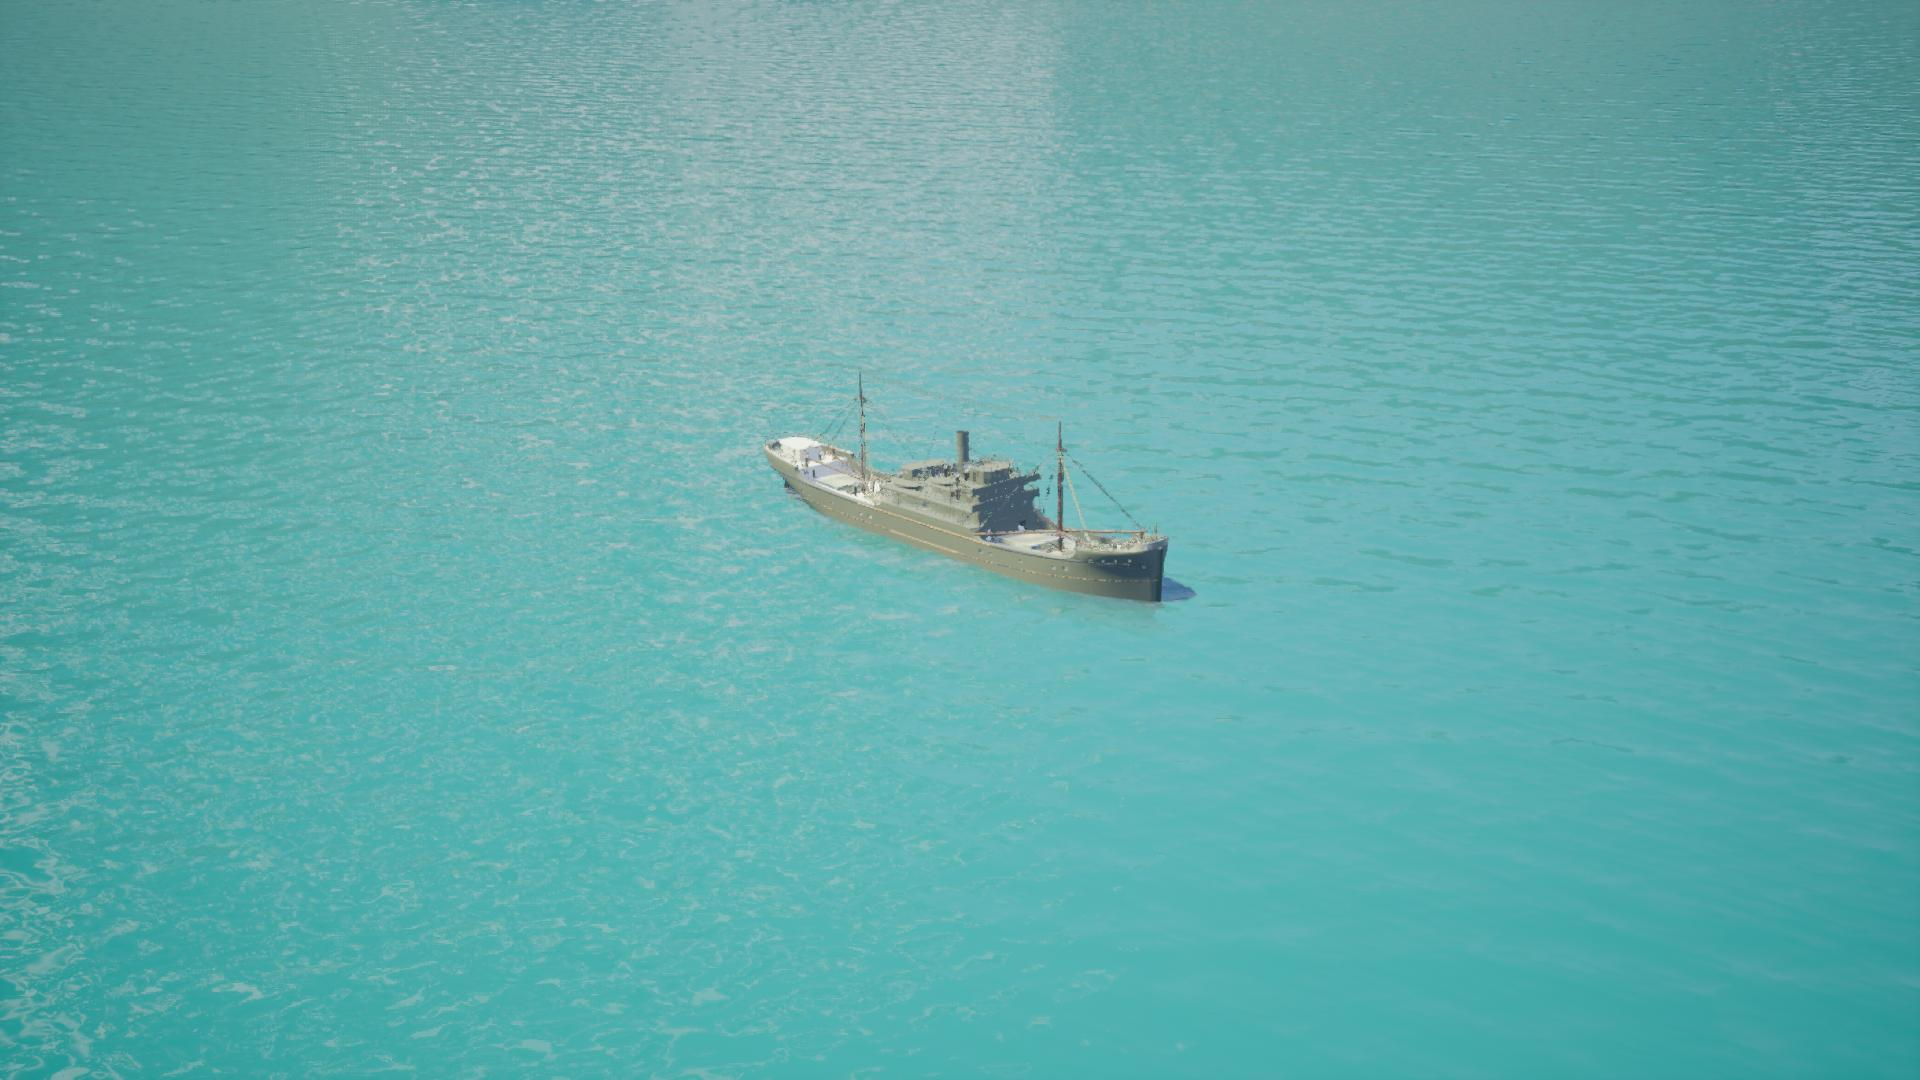Fishing Boat: (765, 439, 1178, 609)
